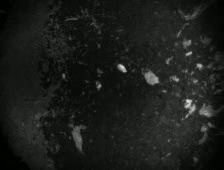corn: (115, 61, 129, 75), (93, 78, 102, 90), (59, 71, 68, 81)
